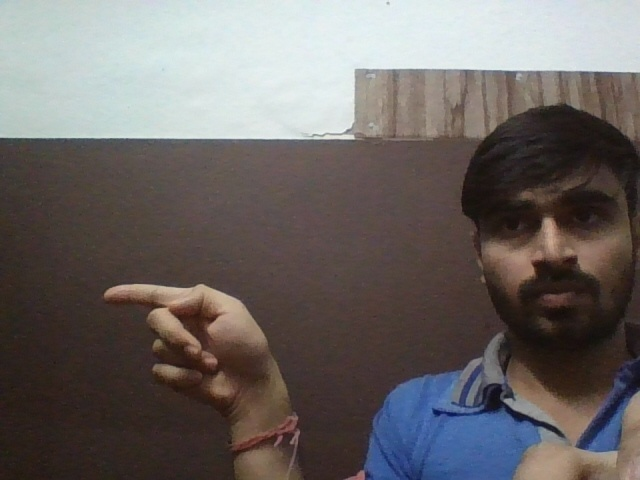G: (98, 279, 279, 409)
